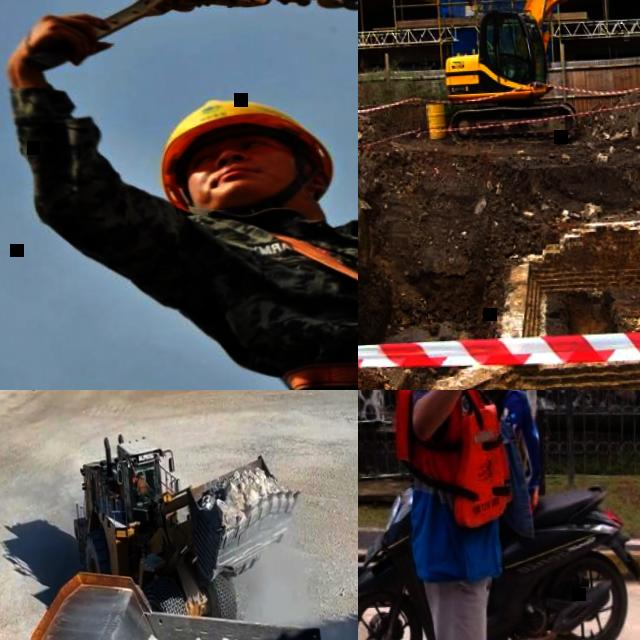NO-Hardhat: (138, 470, 142, 476)
NO-Mask: (189, 150, 320, 198)
NO-Safety Vest: (231, 204, 358, 390), (496, 390, 536, 480), (138, 478, 145, 493)
Person: (2, 0, 358, 390), (382, 390, 532, 640), (150, 90, 335, 208), (489, 390, 544, 503), (135, 470, 148, 497)
Safety Vest: (391, 390, 515, 525)
vehicle: (66, 416, 311, 640), (433, 0, 640, 159), (6, 554, 344, 640)
